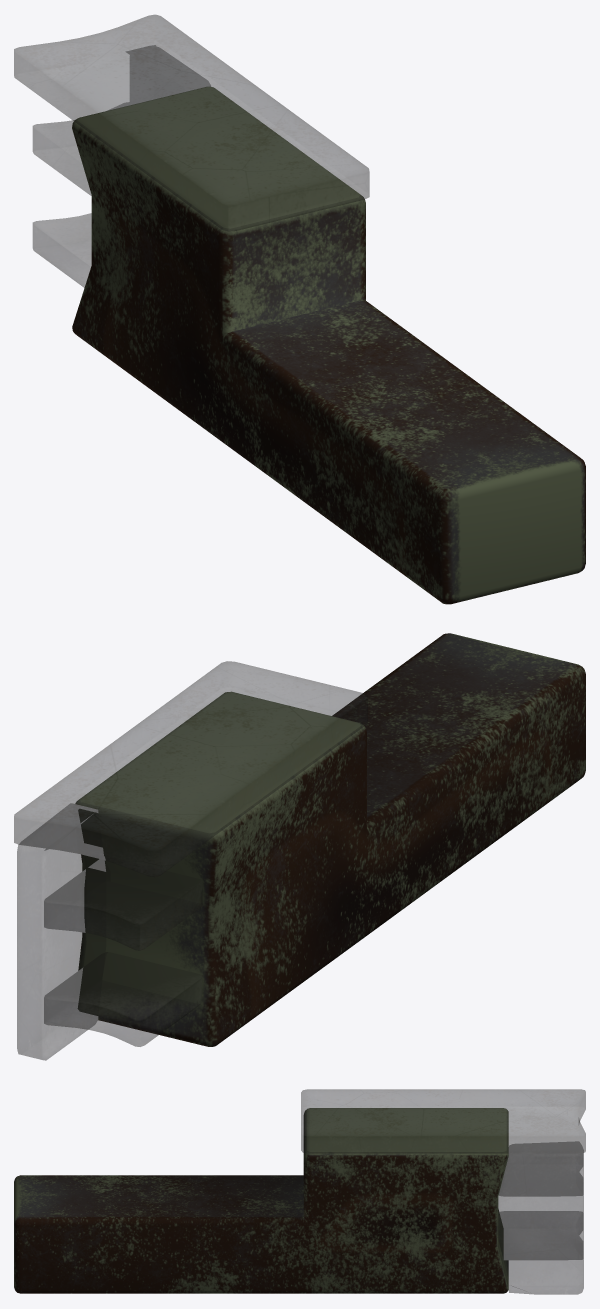
File: Barra_Principal_V2.glb
3 views of the same model, one above another, from view 1: azimuth 30°, elevation 25°; view 2: azimuth 150°, elevation 25°; view 3: azimuth 270°, elevation 25° (orthographic). The views are drawn at different scales.
Parts seen in each view (by area): view 1: Barra_Principal_V2; view 2: Barra_Principal_V2; view 3: Barra_Principal_V2.
Boxes of the visible parts, box(x1,y1,x2,y2) form: Barra_Principal_V2: box(14, 15, 585, 604); Barra_Principal_V2: box(14, 633, 585, 1060); Barra_Principal_V2: box(14, 1089, 585, 1294).
Bounding box in the file's own units: 0.8175 × 1.29 × 4.16.
2 materials, 2 textured.
